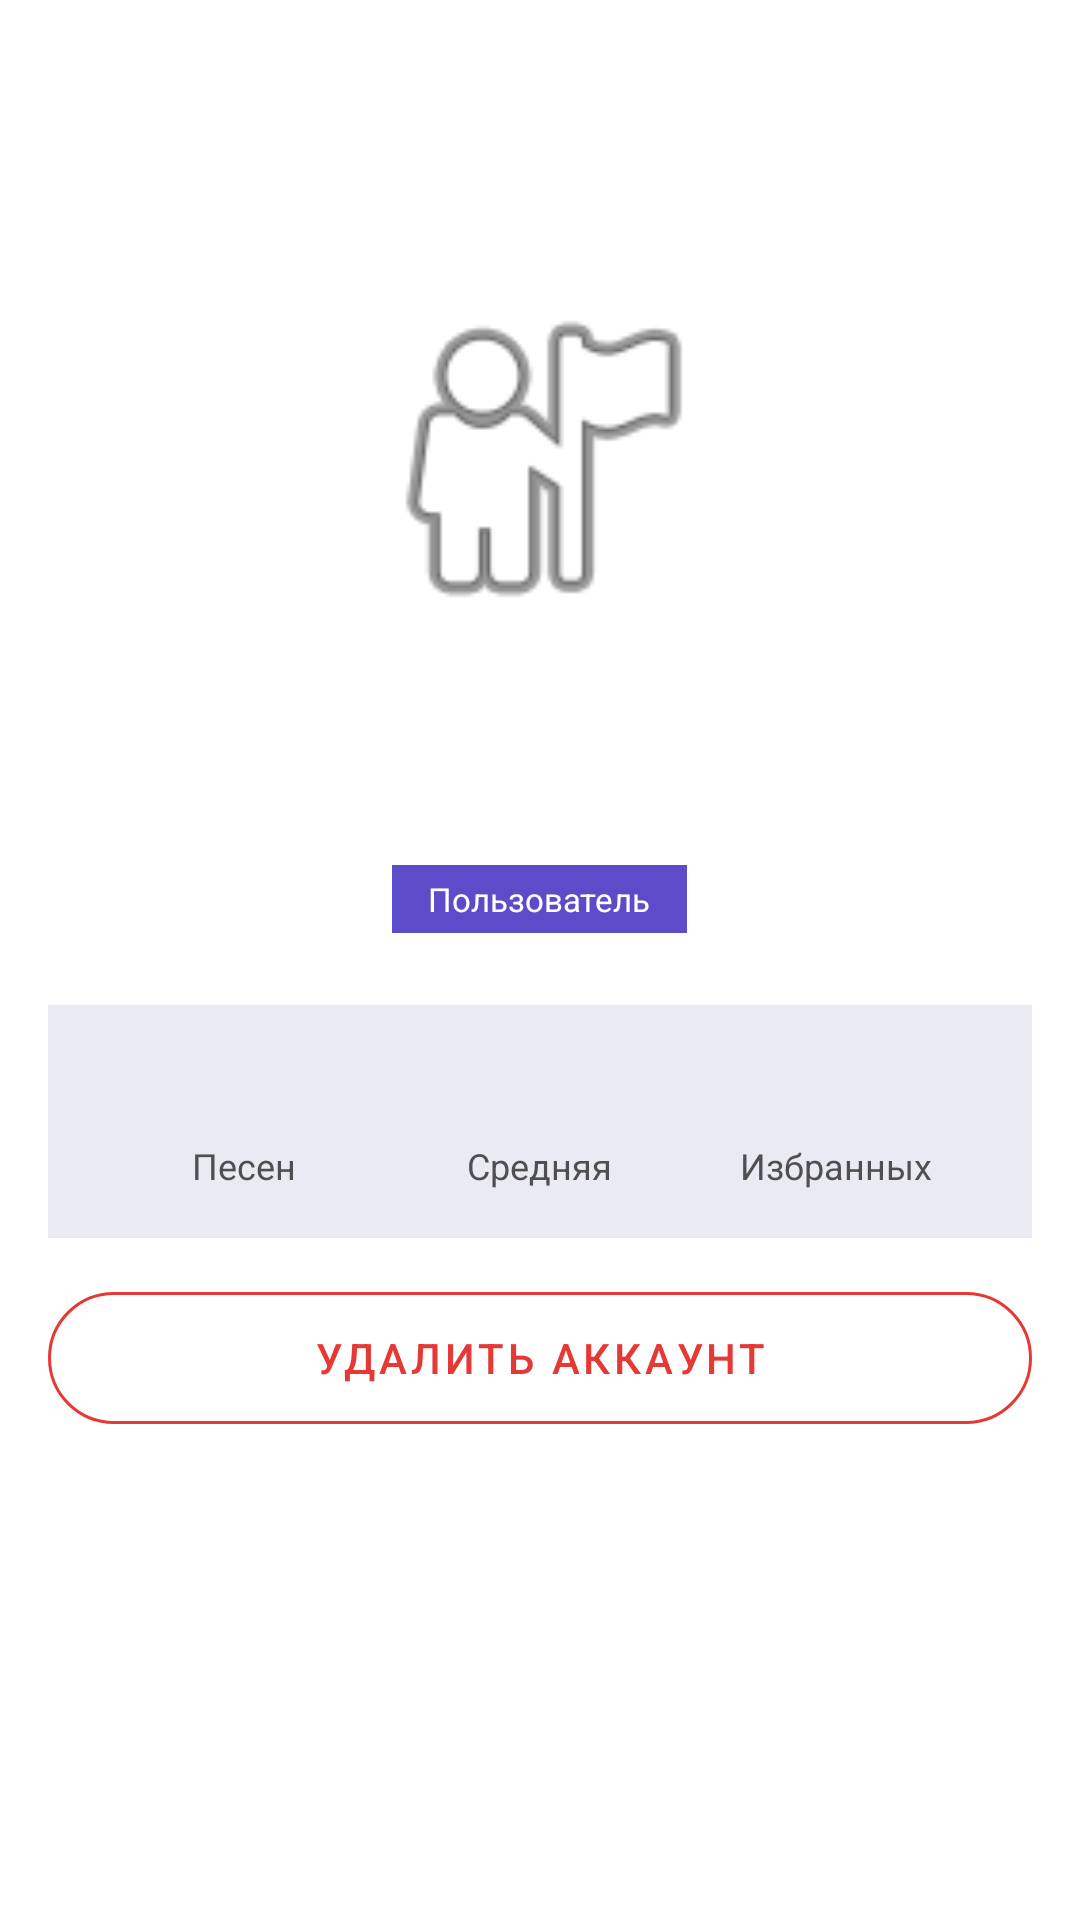

Locate icon controls on the screen. Image size 1080×1920, boxes as detection(x1, y1, x2, y2).
Аватар: detection(406, 322, 682, 596)
